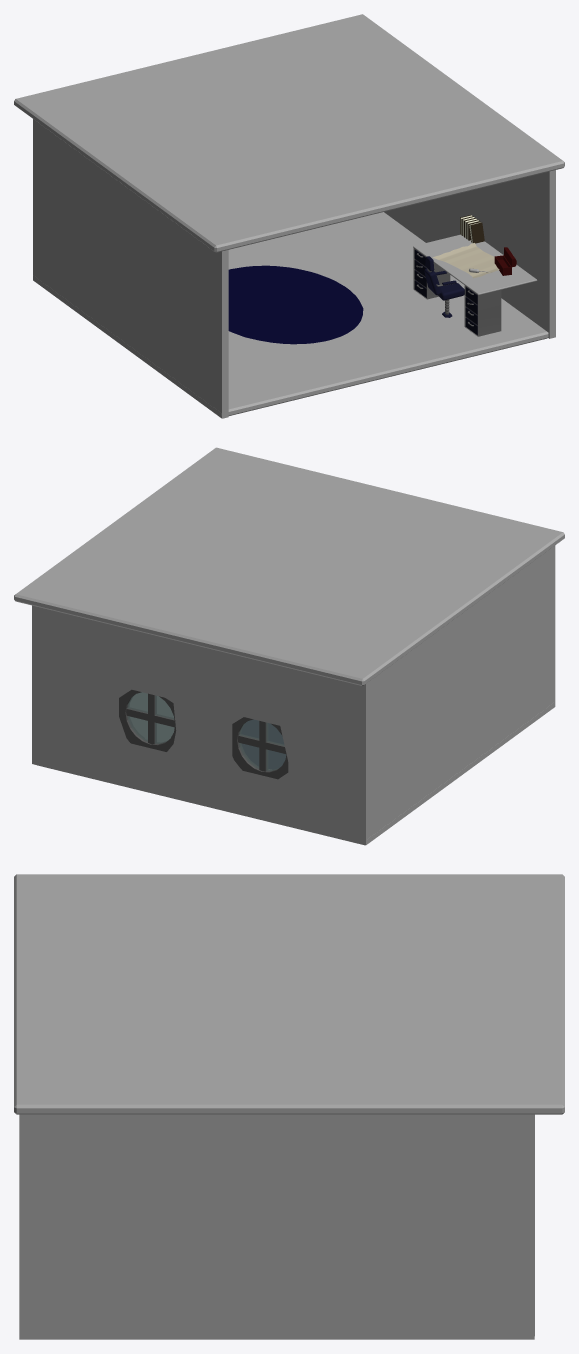
Rendered from MazeRoom.fbx.
3 views of the same model, one above another, from view 1: azimuth 30°, elevation 25°; view 2: azimuth 150°, elevation 25°; view 3: azimuth 270°, elevation 25° (orthographic). The views are drawn at different scales.
Visible parts, largest first — view 1: polySurface3829, polySurface3821, polySurface3820, polySurface3819, polySurface3837, polySurface3836, polySurface3843, polySurface3835; view 2: polySurface3829, polySurface3809, polySurface3813, polySurface3821, polySurface3806, polySurface3805, polySurface3810, polySurface3807, polySurface3819, polySurface3820; view 3: polySurface3829, polySurface3819.
Part boxes in pixels (x1,y1,x2,y2): polySurface3829: (14, 14, 564, 252); polySurface3821: (33, 119, 228, 418); polySurface3820: (33, 212, 548, 416); polySurface3819: (384, 170, 555, 338); polySurface3837: (228, 265, 363, 344); polySurface3836: (413, 234, 537, 336); polySurface3843: (433, 243, 499, 278); polySurface3835: (424, 256, 464, 317); polySurface3829: (14, 447, 564, 685); polySurface3809: (37, 607, 364, 845); polySurface3813: (37, 609, 364, 844); polySurface3821: (365, 545, 555, 845); polySurface3806: (239, 719, 286, 771); polySurface3805: (127, 692, 174, 743); polySurface3810: (119, 689, 176, 751); polySurface3807: (232, 717, 288, 779); polySurface3819: (32, 605, 36, 764); polySurface3820: (367, 703, 554, 842); polySurface3829: (14, 874, 564, 1114); polySurface3819: (19, 1114, 534, 1339).
Size of the model in its own units: 107 by 51.23 by 107.
